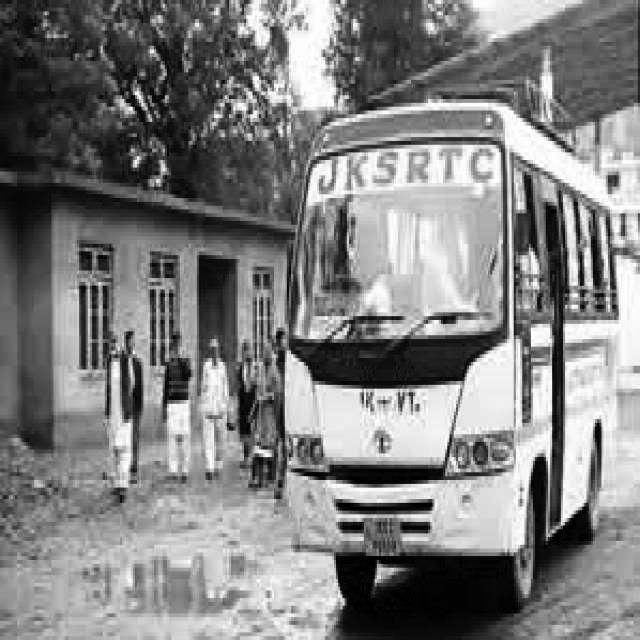Bus: (261, 73, 640, 618)
